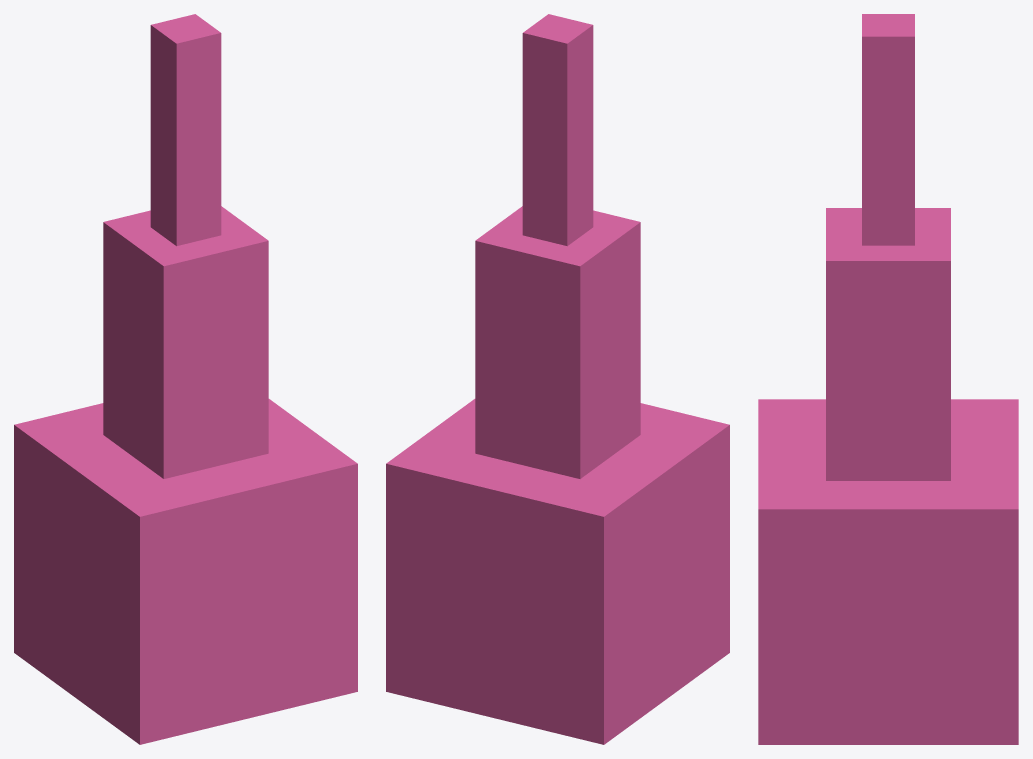
Rendered from building.gltf.
3 renders of one model, left to right at view 1: azimuth 30°, elevation 25°; view 2: azimuth 150°, elevation 25°; view 3: azimuth 270°, elevation 25°, orthographic. The views are drawn at different scales.
Visible parts, largest first — view 1: Cube; view 2: Cube; view 3: Cube.
Part boxes in pixels (x1,y1,x2,y2): Cube: [14, 14, 357, 744]; Cube: [386, 14, 729, 744]; Cube: [758, 14, 1018, 744].
Bounding box in the file's own units: 6 × 16.93 × 6.
